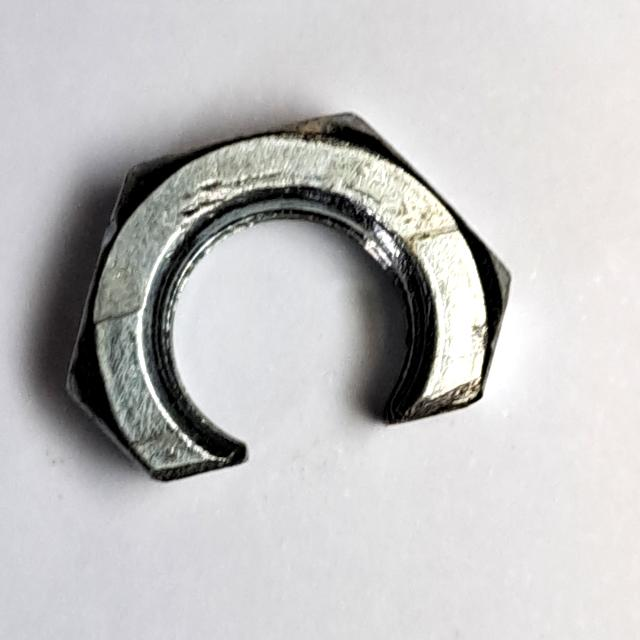Fracture: (49, 96, 527, 503)
